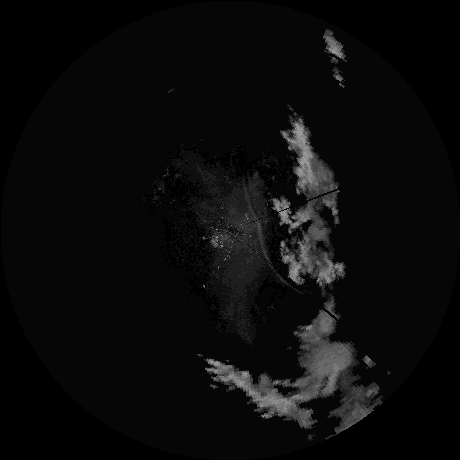frontgust: (243, 183, 272, 270)
